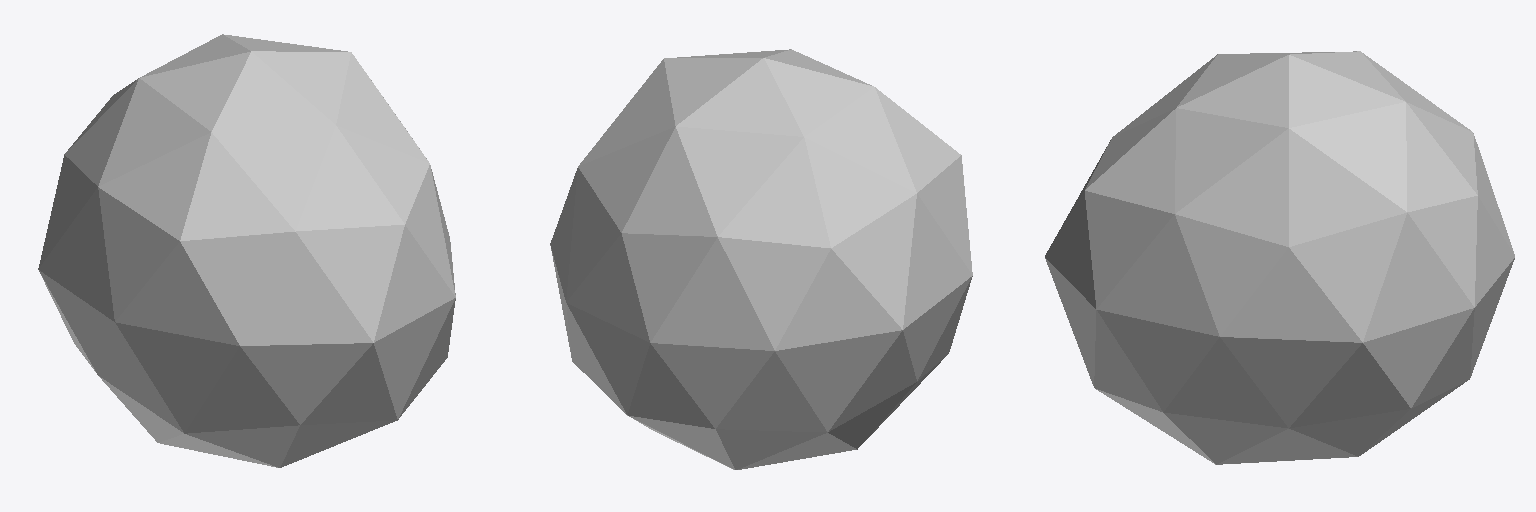
File: asteroid_0.obj
3 renders of one model, left to right at view 1: azimuth 30°, elevation 25°; view 2: azimuth 150°, elevation 25°; view 3: azimuth 270°, elevation 25°, orthographic.
Visible parts, largest first — view 1: Asteroid_0; view 2: Asteroid_0; view 3: Asteroid_0.
Boxes of the visible parts, x1=… form: Asteroid_0: x1=38, y1=34, x2=455, y2=467; Asteroid_0: x1=550, y1=49, x2=972, y2=469; Asteroid_0: x1=1045, y1=51, x2=1514, y2=464.
Bounding box in the file's own units: 1.59 × 1.73 × 1.83.